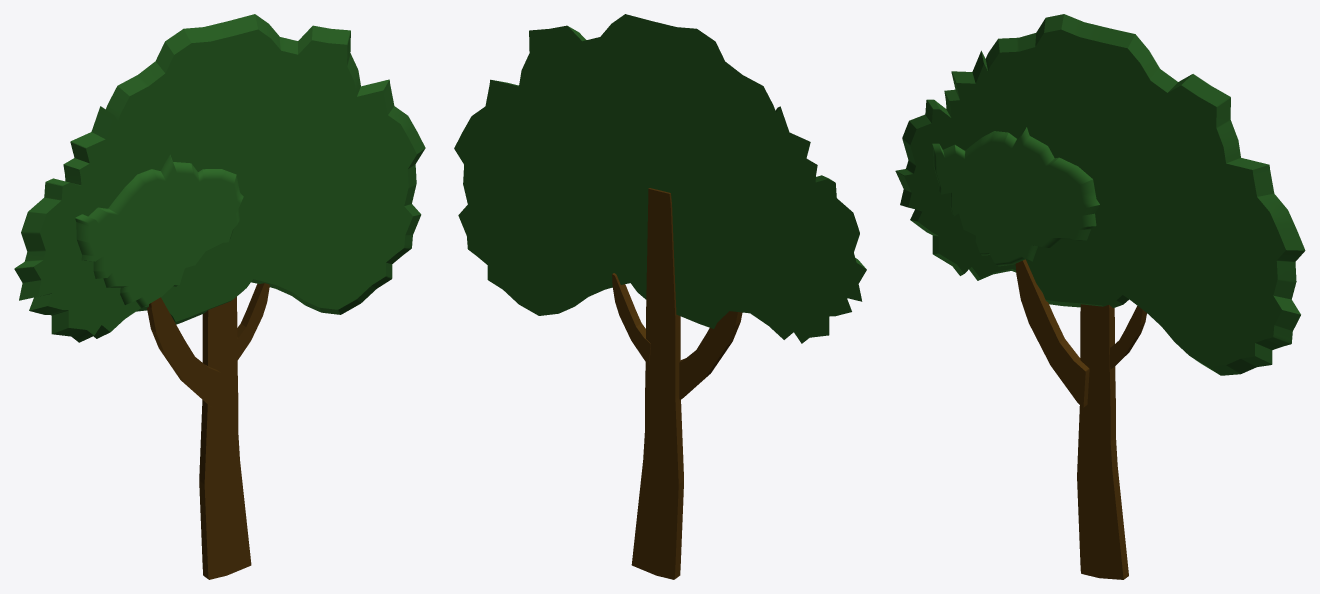
The model's file is Tree_04.fbx.
The picture shows the model from 3 angles, left to right: view 1: azimuth 30°, elevation 25°; view 2: azimuth 150°, elevation 25°; view 3: azimuth 330°, elevation 25°; orthographic projection.
Visible parts, largest first — view 1: Trees0_5:tree_3; view 2: Trees0_5:tree_3; view 3: Trees0_5:tree_3.
Boxes of the visible parts, <box> form: Trees0_5:tree_3: <box>14,14,425,579</box>; Trees0_5:tree_3: <box>454,14,866,579</box>; Trees0_5:tree_3: <box>895,14,1305,579</box>.
Size of the model in its own units: 40.82 by 52.47 by 3.3.
